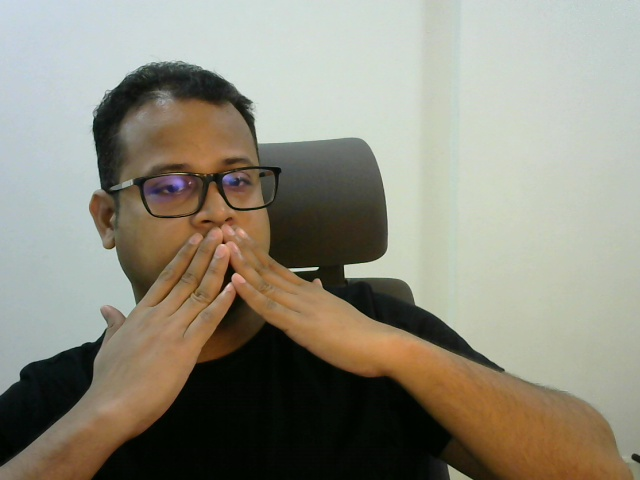ThankYou: (89, 224, 402, 435)
